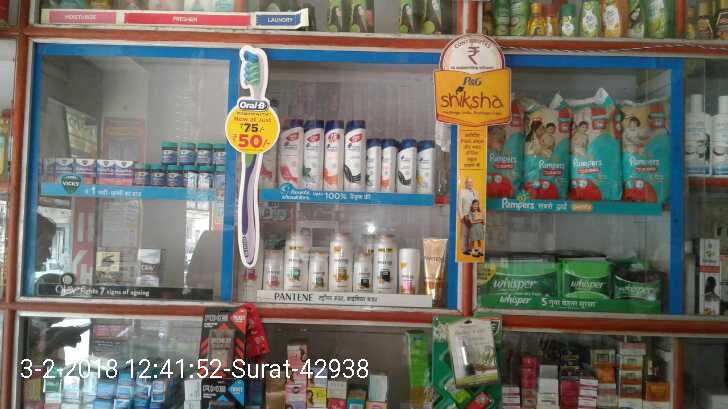beauty: (277, 118, 303, 194), (343, 118, 368, 192), (300, 119, 323, 192), (321, 119, 342, 193), (397, 141, 419, 196), (420, 142, 437, 196), (367, 140, 382, 188), (382, 143, 397, 191)
pharmacy: (37, 137, 225, 187), (569, 96, 624, 201), (623, 98, 669, 208), (523, 96, 569, 205), (477, 254, 565, 307), (482, 95, 525, 200), (562, 252, 613, 301)
